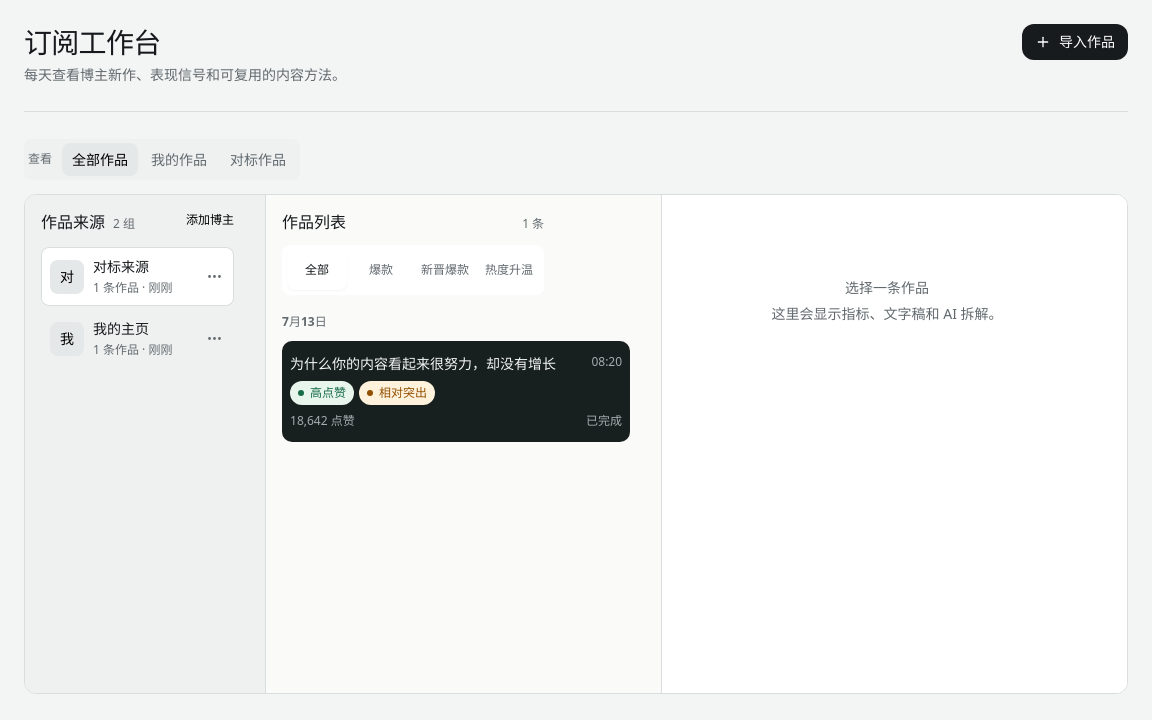
work analysis library › shows only my account in the source rail when filtering my works
Click the button "我的作品" at (179, 159), box top-left (141, 143), bottom-right (217, 176)
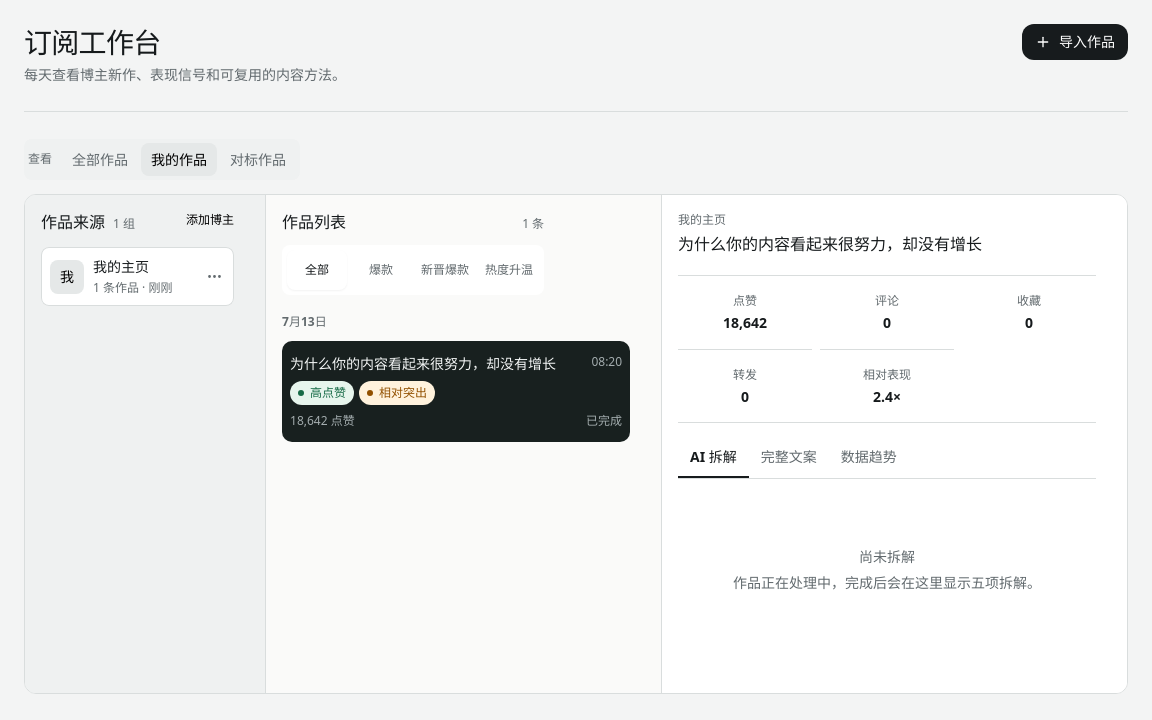
Expected: the button "我 我的主页 1 条作品 · 刚刚" is shown, top-left (41, 247), bottom-right (234, 306)
Expected: the button "对标来源" is gone
